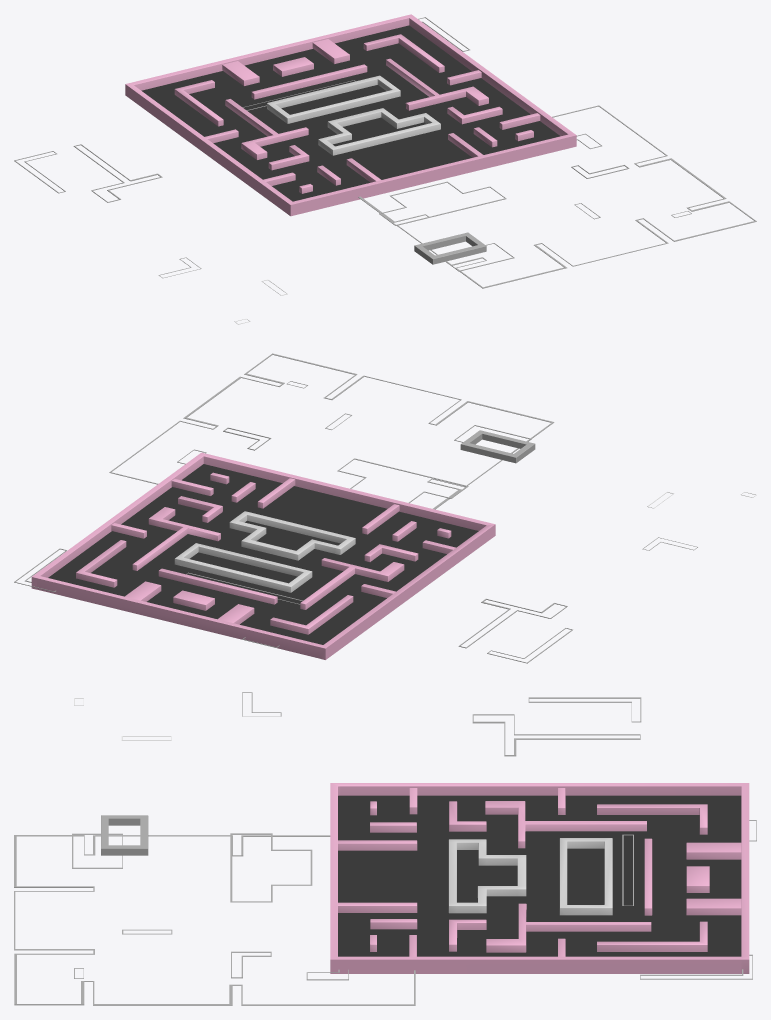
Rendered from ron_map_1_no_uv_edit.fbx.
3 views of the same model, one above another, from view 1: azimuth 30°, elevation 25°; view 2: azimuth 150°, elevation 25°; view 3: azimuth 270°, elevation 25° (orthographic). The views are drawn at different scales.
Parts seen in each view (by area): view 1: Box022, Box021, Box024, Box023, Cube__7_, Box015, Box016, Cube__2_, Box009, Box017, Box018, Box020 (+3 smaller); view 2: Box022, Box021, Box024, Box023, Cube__7_, Box016, Box015, Cube__2_, Box009, Box018, Box017, Box014 (+2 smaller); view 3: Box022, Box021, Cube__7_, Box024, Box023, Box016, Box015, Box018, Box017, Cube__2_, Box020, Box019 (+8 smaller).
Boxes of the visible parts, box(x1,y1,x2,y2) form: Box022: box(141, 25, 560, 201); Box021: box(125, 14, 576, 216); Box024: box(318, 108, 440, 155); Box023: box(267, 75, 400, 123); Cube__7_: box(358, 105, 756, 288); Box015: box(386, 58, 488, 110); Box016: box(225, 99, 308, 159); Cube__2_: box(414, 232, 486, 264); Box009: box(251, 64, 367, 99); Box017: box(363, 34, 444, 72); Box018: box(174, 80, 223, 126); Box020: box(222, 61, 259, 85); Box022: box(48, 464, 478, 644); Box021: box(31, 452, 495, 659); Box024: box(229, 511, 355, 560); Box023: box(174, 543, 312, 592); Cube__7_: box(109, 353, 554, 509); Box016: box(300, 558, 404, 609); Box015: box(132, 507, 220, 570); Cube__2_: box(460, 430, 535, 463); Box009: box(158, 568, 277, 604); Box018: box(270, 595, 353, 634); Box017: box(76, 540, 126, 587); Box014: box(173, 590, 214, 610); Box022: box(338, 795, 741, 956); Box021: box(330, 783, 749, 973); Cube__7_: box(14, 835, 415, 1005); Box024: box(448, 839, 526, 913); Box023: box(559, 838, 612, 915); Box016: box(485, 801, 646, 848); Box015: box(486, 903, 651, 952); Box018: box(597, 804, 707, 834); Box017: box(597, 921, 707, 951); Cube__2_: box(101, 815, 148, 855); Box020: box(686, 842, 741, 859); Box019: box(686, 898, 741, 915).
Bounding box in the file's own units: 9353 × 200 × 9408.
